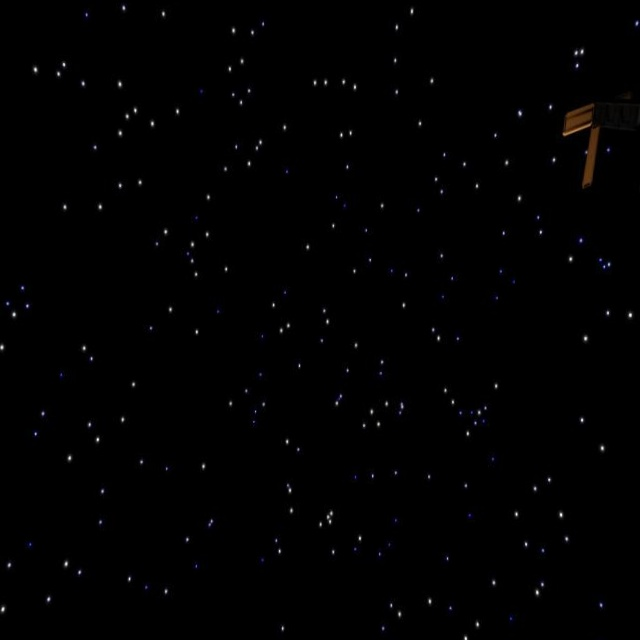satellite: (555, 58, 640, 196)
